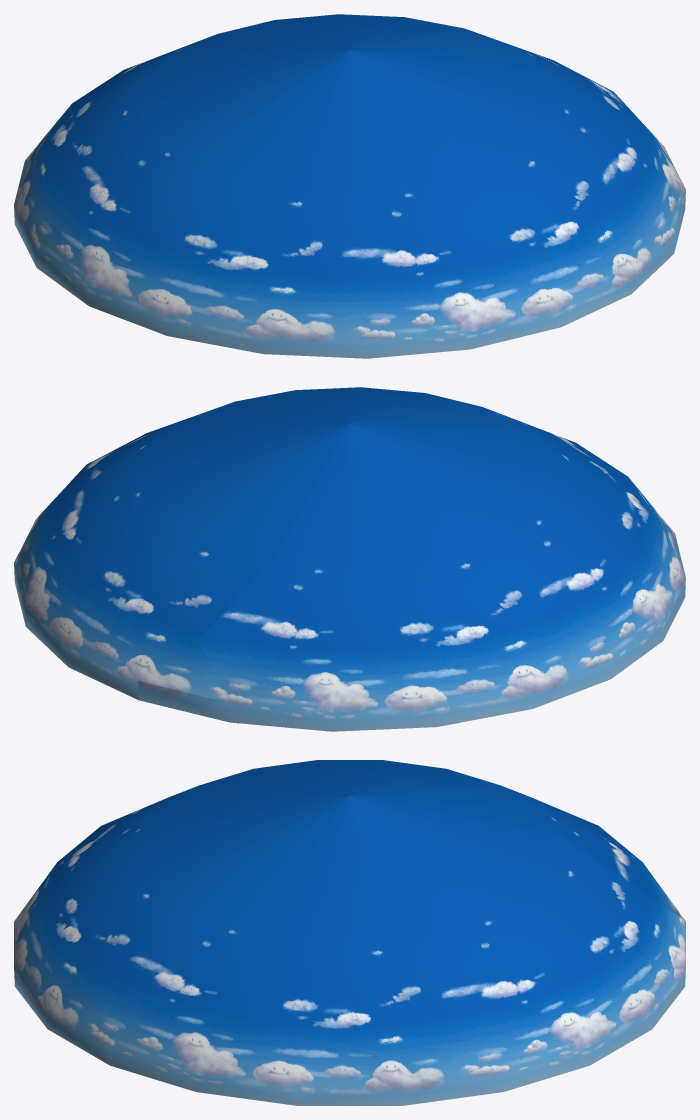
The model's file is daisy_sky.dae.
3 renders of one model, top to bottom at view 1: azimuth 30°, elevation 25°; view 2: azimuth 150°, elevation 25°; view 3: azimuth 270°, elevation 25°, orthographic.
Visible parts, largest first — view 1: n1b3; view 2: n1b3; view 3: n1b3.
Boxes of the visible parts, box(x1,y1,x2,y2) form: n1b3: box(14, 14, 685, 358); n1b3: box(14, 387, 685, 731); n1b3: box(14, 760, 685, 1105).
Size of the model in its own units: 325616 by 90002 by 325616.
